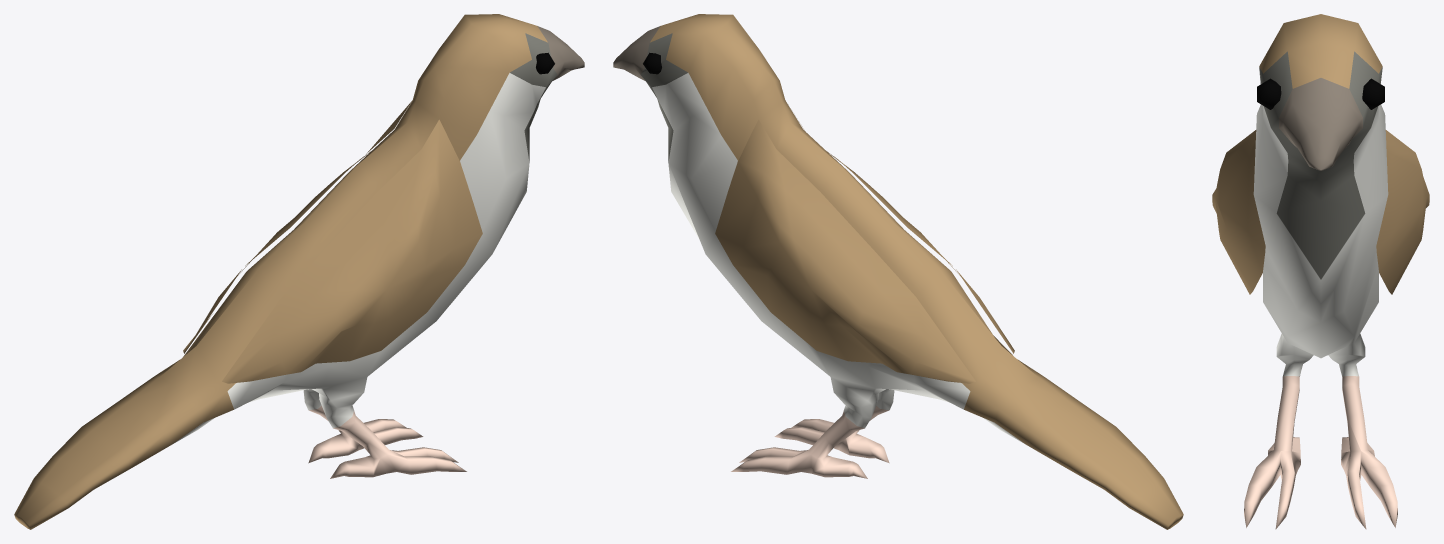
Rendered from Sparrow.glb.
3 views of the same model, side by side, from view 1: azimuth 30°, elevation 25°; view 2: azimuth 150°, elevation 25°; view 3: azimuth 270°, elevation 25° (orthographic). The views are drawn at different scales.
Parts seen in each view (by area): view 1: Sparrow.2; view 2: Sparrow.2; view 3: Sparrow.2.
Boxes of the visible parts, box(x1,y1,x2,y2) form: Sparrow.2: box(14, 14, 584, 529); Sparrow.2: box(613, 14, 1183, 529); Sparrow.2: box(1212, 14, 1429, 529).
Size of the model in its own units: 524 by 372 by 137.
